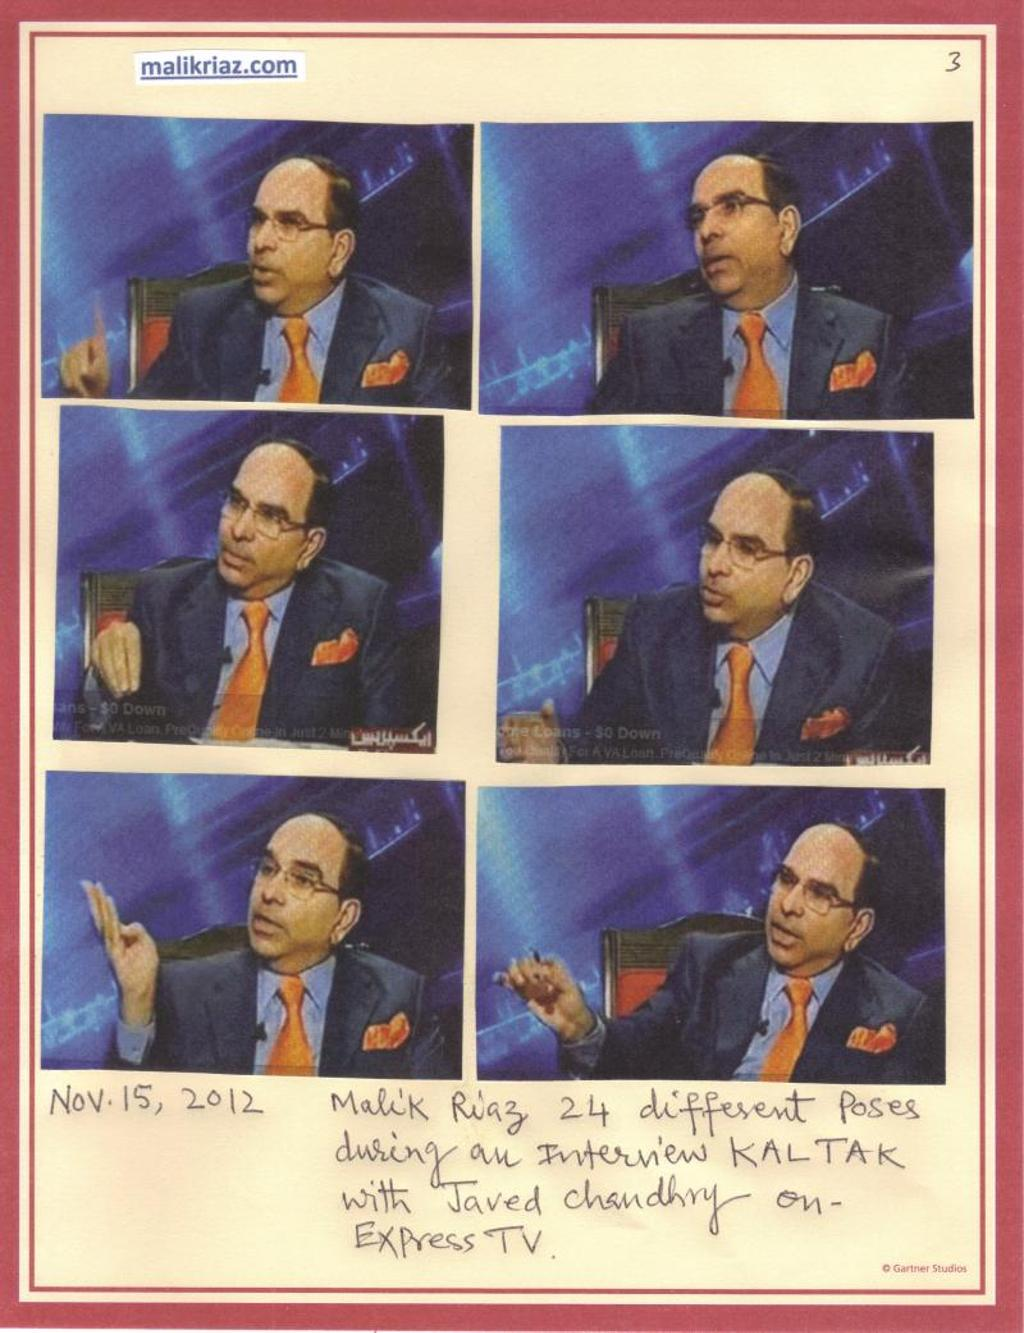face: (245, 805, 336, 969), (685, 154, 771, 310), (696, 469, 782, 625), (758, 831, 844, 964), (216, 443, 299, 581), (245, 167, 323, 302)
